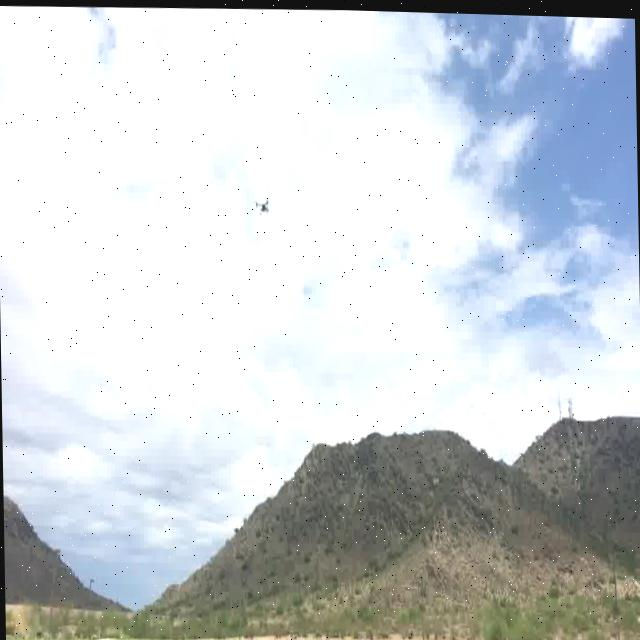drone: (254, 191, 270, 214)
